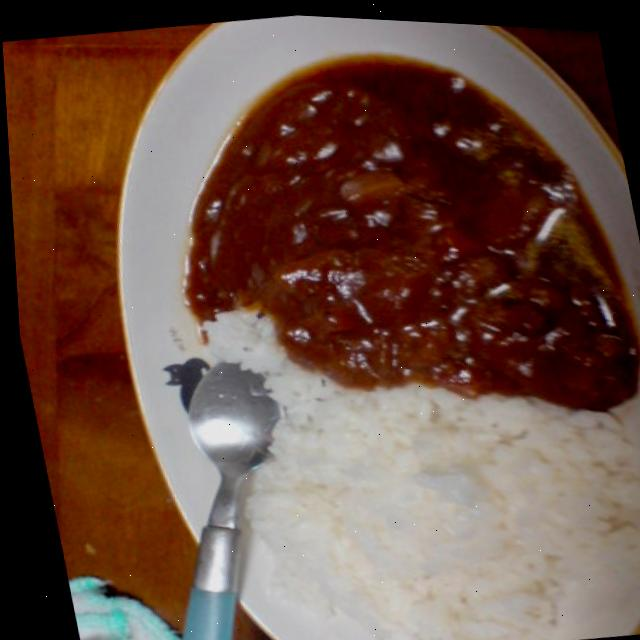牛肉菜式: (39, 2, 640, 640)
